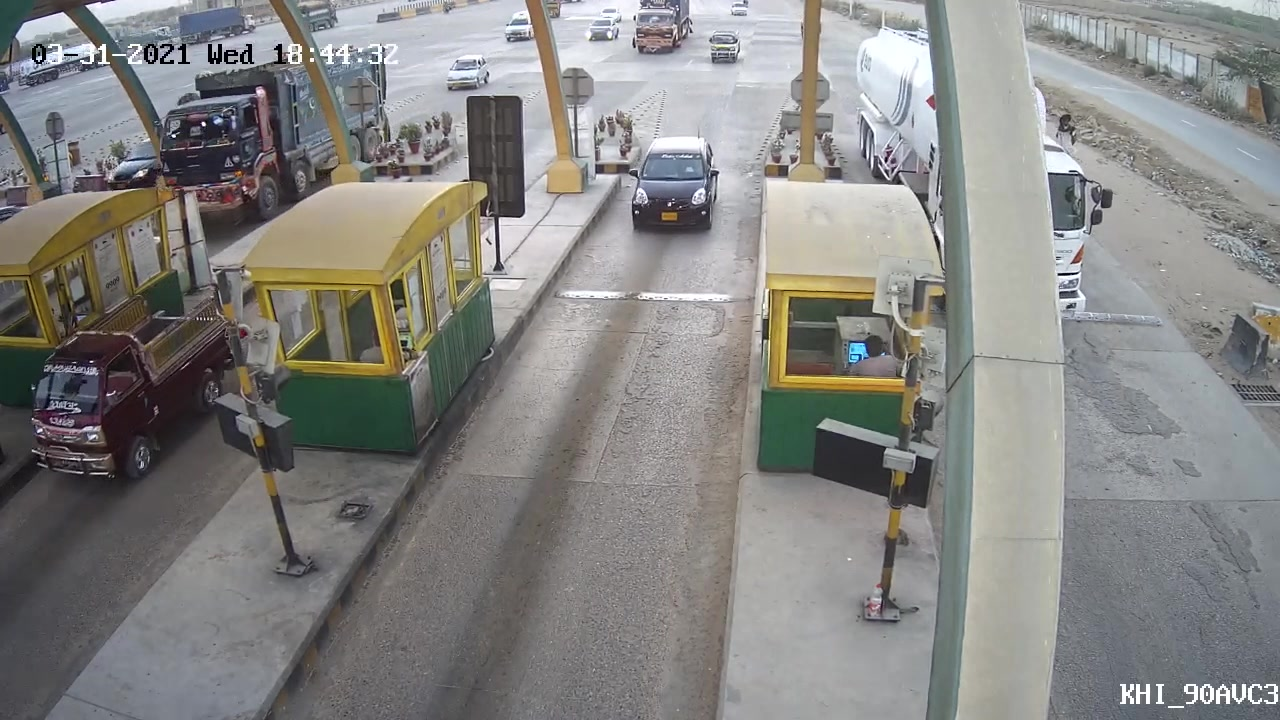F1: (600, 125, 735, 246)
